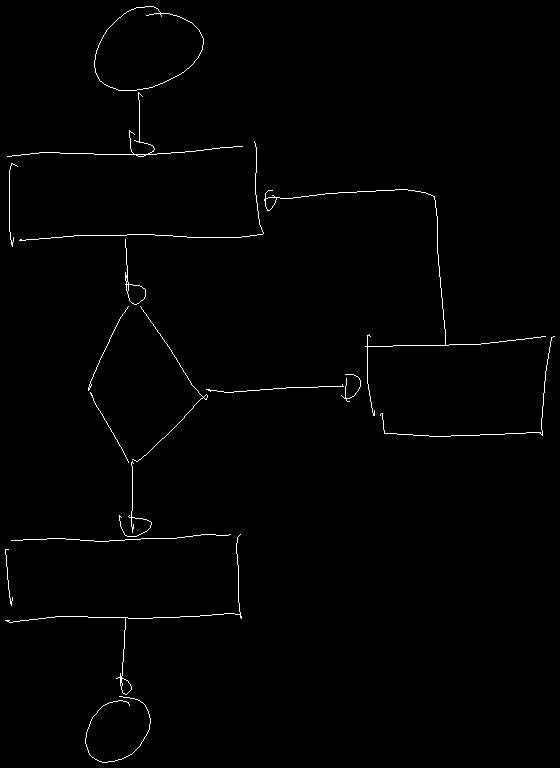arrow: (264, 189, 445, 344), (206, 374, 360, 401), (119, 461, 151, 536), (129, 92, 154, 156), (125, 239, 145, 304), (116, 617, 131, 694)
connection: (94, 6, 203, 90), (85, 696, 150, 762)
decision: (88, 306, 207, 462)
process: (7, 141, 263, 246), (5, 534, 241, 622), (365, 334, 554, 436)
